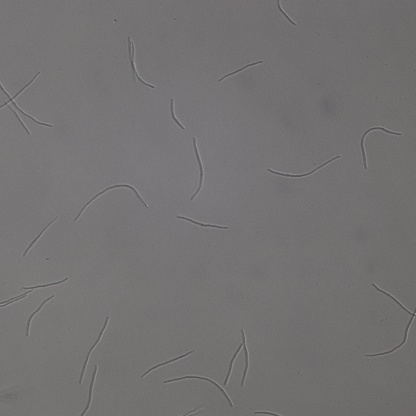Sensitive: (1, 71, 53, 135), (75, 183, 148, 221), (366, 311, 416, 360), (164, 376, 233, 406), (79, 316, 109, 381), (360, 124, 401, 168), (268, 155, 340, 178), (125, 37, 155, 89), (25, 295, 58, 338), (372, 285, 416, 317), (225, 329, 250, 385), (142, 349, 192, 375), (25, 217, 57, 255), (82, 366, 103, 415), (191, 137, 207, 200), (218, 60, 263, 81), (23, 275, 68, 293), (178, 215, 228, 231), (1, 290, 32, 309), (277, 1, 297, 27), (168, 98, 184, 129)
